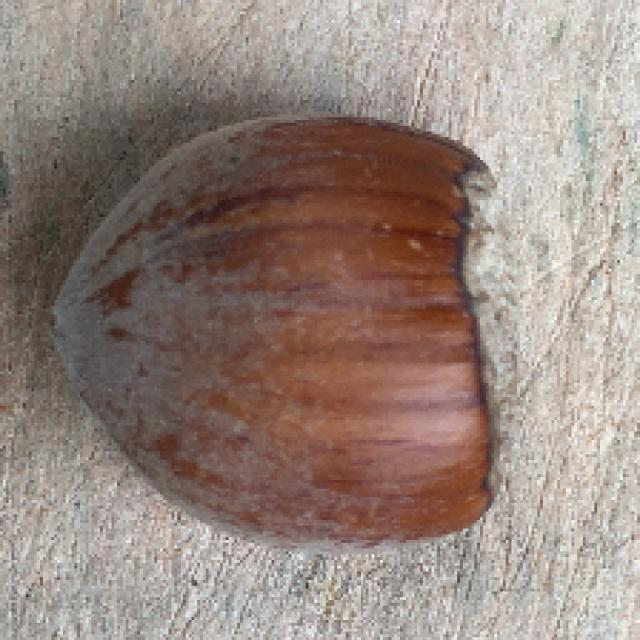qualityHazelnut: (39, 106, 532, 564)
